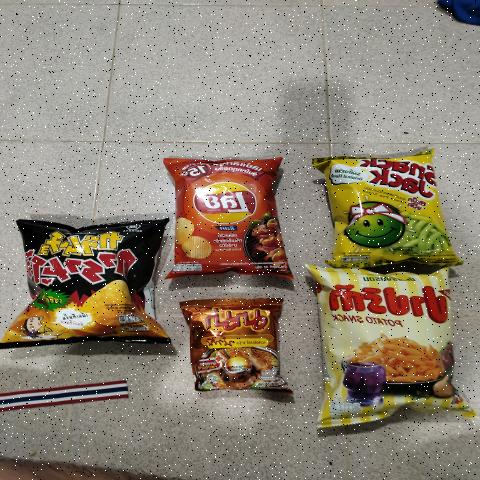karamujo: (28, 230, 142, 344)
mama: (201, 305, 270, 392)
paprika: (330, 275, 450, 428)
snack_jack: (337, 156, 436, 264)
